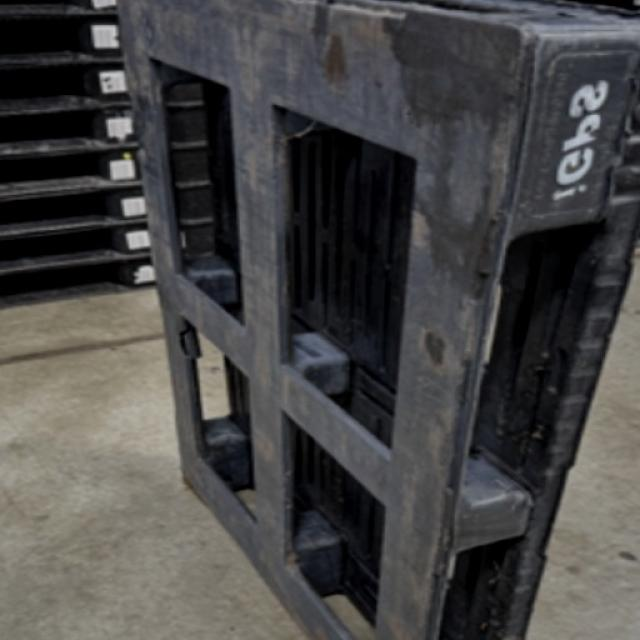igps: (110, 0, 639, 639), (0, 0, 165, 313)
